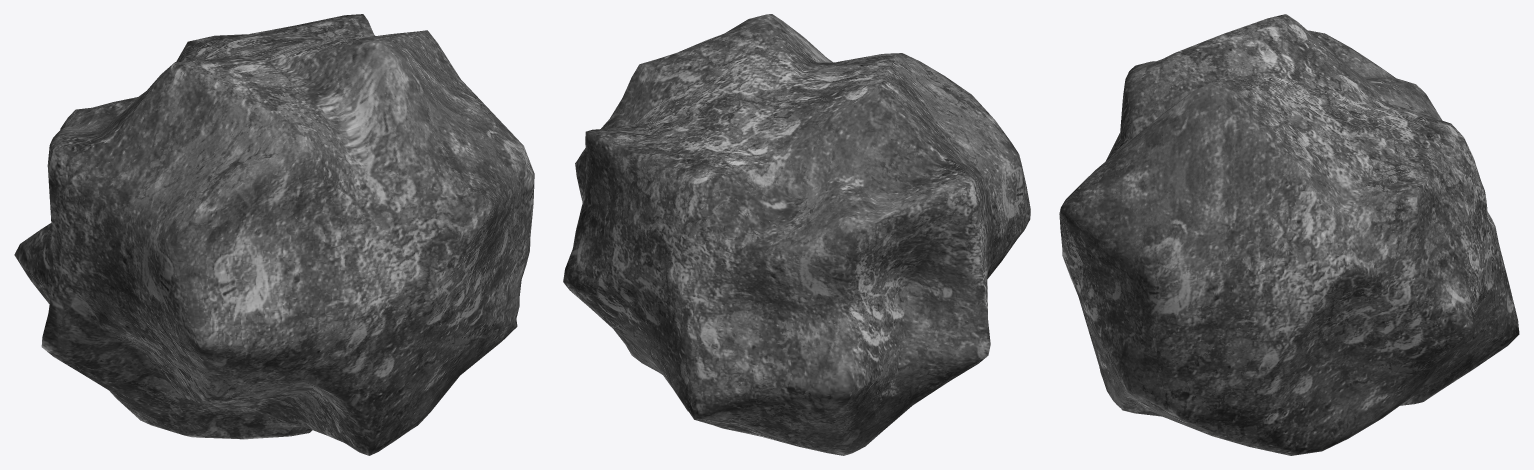
File: Asteroid_Small_6.obj
3 views of the same model, side by side, from view 1: azimuth 30°, elevation 25°; view 2: azimuth 150°, elevation 25°; view 3: azimuth 270°, elevation 25° (orthographic). The views are drawn at different scales.
Parts seen in each view (by area): view 1: Aster_Small_6__Cube.012; view 2: Aster_Small_6__Cube.012; view 3: Aster_Small_6__Cube.012.
Boxes of the visible parts, x1=… form: Aster_Small_6__Cube.012: x1=14, y1=14, x2=534, y2=455; Aster_Small_6__Cube.012: x1=563, y1=14, x2=1030, y2=455; Aster_Small_6__Cube.012: x1=1059, y1=14, x2=1519, y2=455.
Size of the model in its own units: 1.3 by 1.14 by 1.24.
Materials: 1 (1 with a texture image).
